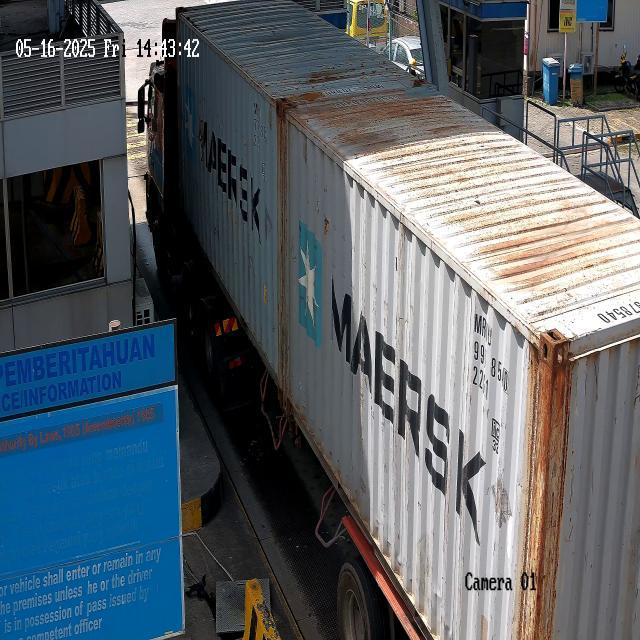ISO: (466, 365, 492, 403), (249, 126, 265, 154)
container_number: (465, 304, 522, 382), (245, 88, 272, 142)
